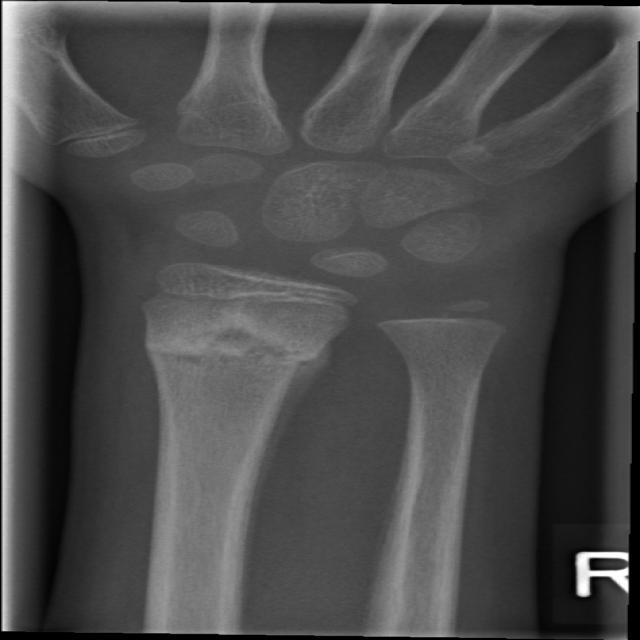radius fracture: (114, 321, 370, 505)
